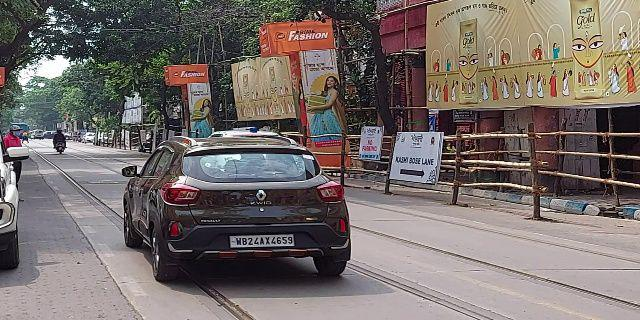Car: (115, 131, 356, 287)
Motorbike: (50, 124, 71, 157)
